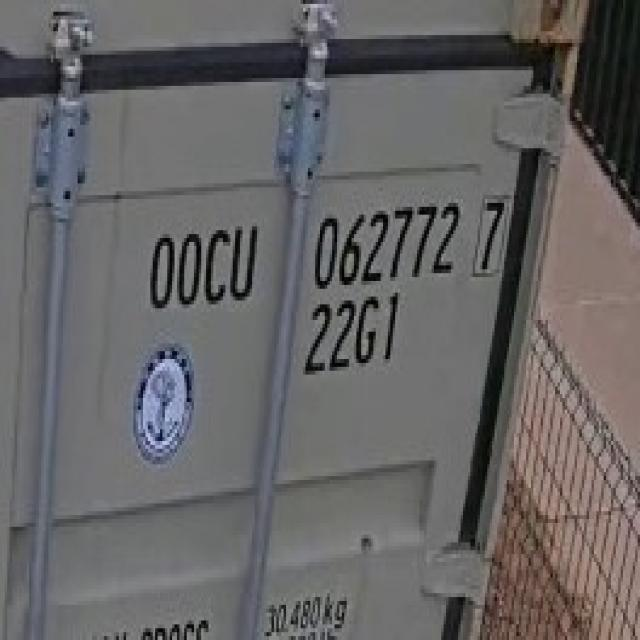dv: (471, 185, 514, 292)
owner: (140, 210, 264, 316)
serial: (311, 193, 463, 294)
size: (304, 291, 408, 386)
